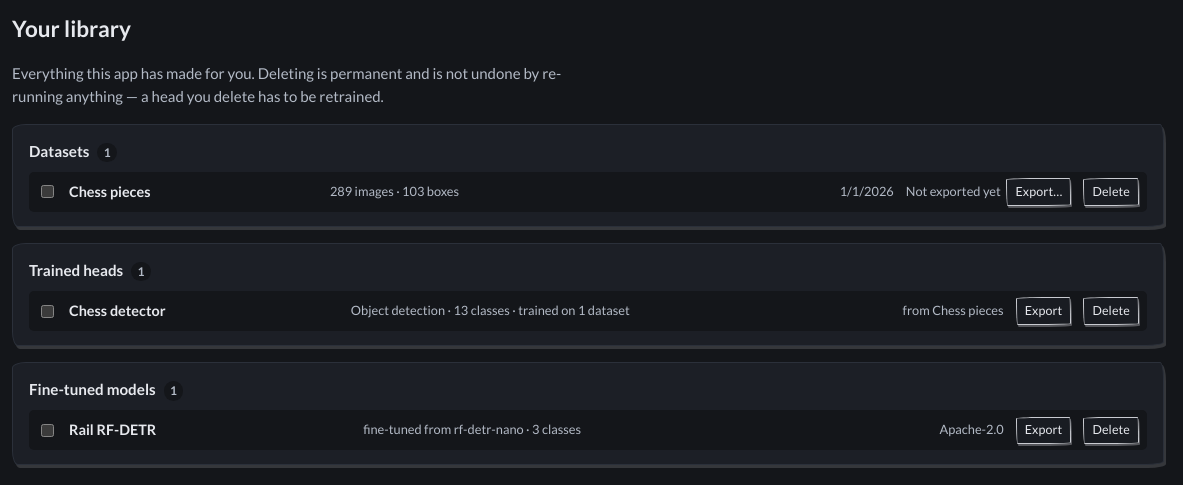
Scenario: deleting › names the item in the confirmation
Click the button with aria-label "Delete Chess detector".
click(1111, 311)  # box x1=1083 y1=298 x2=1139 y2=325
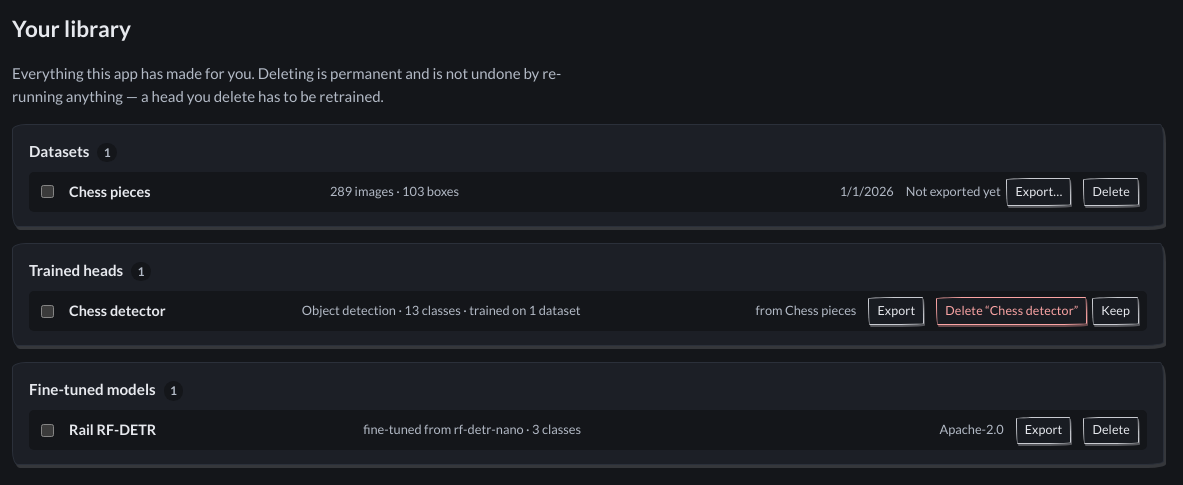
Expected: the button "Delete “Chess detector”" is shown, x1=936 y1=298 x2=1088 y2=325
